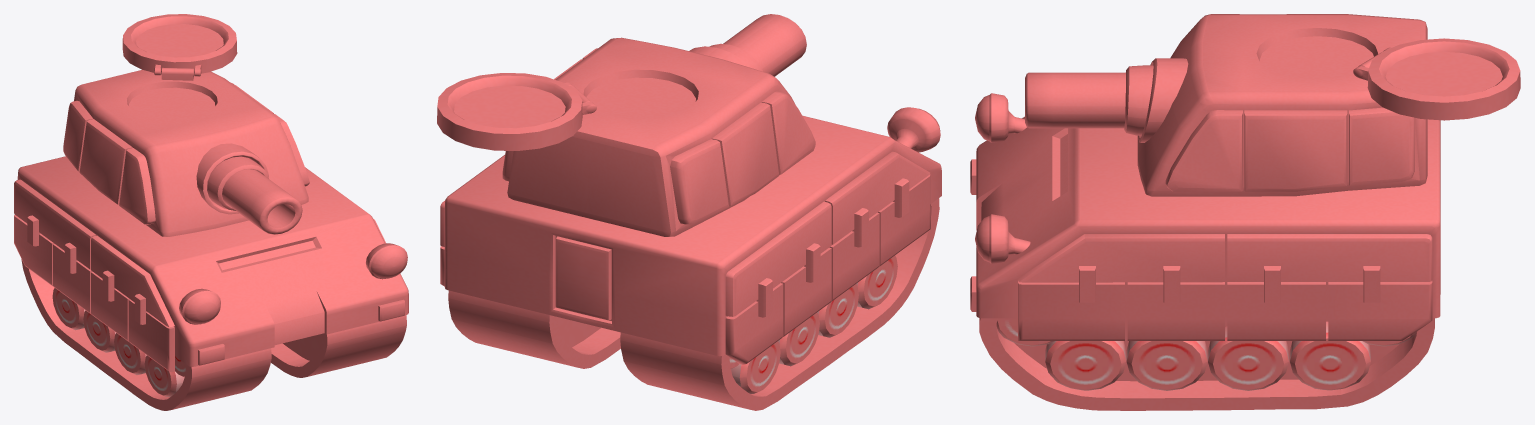
Rendered from OrangeStarTank.fbx.
The picture shows the model from 3 angles, left to right: view 1: azimuth 30°, elevation 25°; view 2: azimuth 150°, elevation 25°; view 3: azimuth 270°, elevation 25°; orthographic projection. The views are drawn at different scales.
Visible parts, largest first — view 1: SK_Orange_Tank_mesh; view 2: SK_Orange_Tank_mesh; view 3: SK_Orange_Tank_mesh.
Part boxes in pixels (x1=…): SK_Orange_Tank_mesh: x1=14, y1=14, x2=408, y2=410; SK_Orange_Tank_mesh: x1=437, y1=14, x2=941, y2=410; SK_Orange_Tank_mesh: x1=970, y1=14, x2=1520, y2=410.
Bounding box in the file's own units: 160 × 147 × 237.
